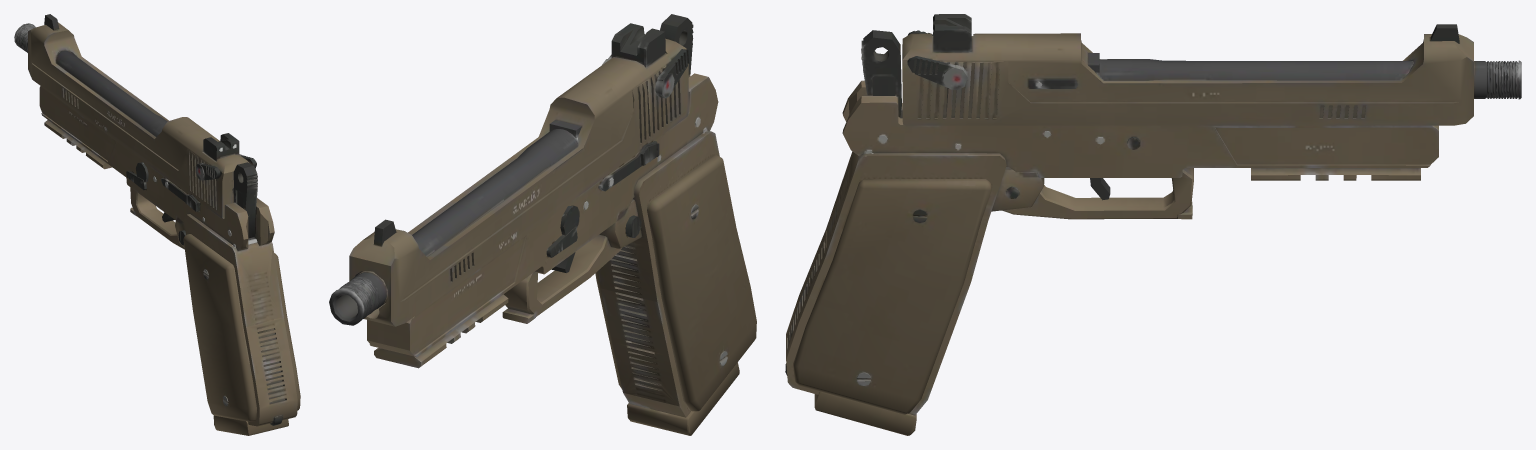
File: pistola_guardia_9mm_leve.glb
The picture shows the model from 3 angles, left to right: view 1: azimuth 30°, elevation 25°; view 2: azimuth 150°, elevation 25°; view 3: azimuth 270°, elevation 25°; orthographic projection. The views are drawn at different scales.
Parts seen in each view (by area): view 1: pistola_guardia_9mm_leve; view 2: pistola_guardia_9mm_leve; view 3: pistola_guardia_9mm_leve.
Boxes of the visible parts, left/top/right/bottom form: pistola_guardia_9mm_leve: left=14, top=14, right=300, bottom=435; pistola_guardia_9mm_leve: left=329, top=14, right=756, bottom=435; pistola_guardia_9mm_leve: left=785, top=14, right=1521, bottom=435.
Bounding box in the file's own units: 0.0322 × 0.1582 × 0.2639.
Materials: 1 (1 with a texture image).
